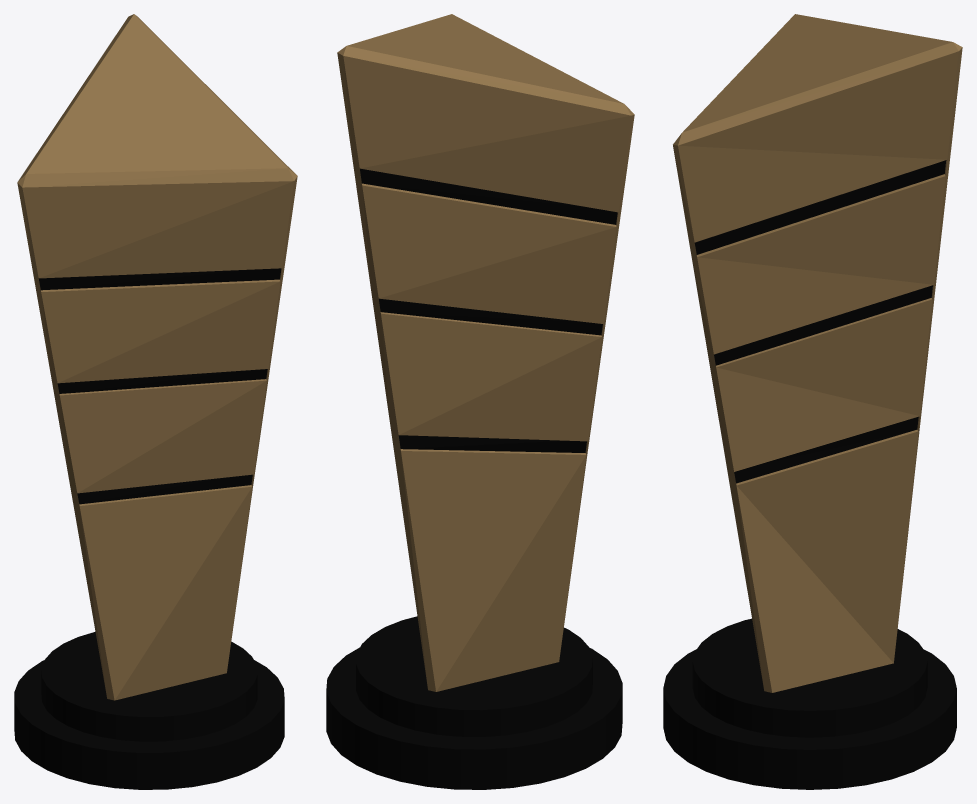
The model's file is tower.obj.
3 renders of one model, left to right at view 1: azimuth 30°, elevation 25°; view 2: azimuth 150°, elevation 25°; view 3: azimuth 270°, elevation 25°, orthographic. The views are drawn at different scales.
Parts seen in each view (by area): view 1: Cylinder.003_Cylinder.002, Cylinder; view 2: Cylinder.003_Cylinder.002, Cylinder; view 3: Cylinder.003_Cylinder.002, Cylinder.
Part boxes in pixels (box(x1,y1,x2,y2)): Cylinder.003_Cylinder.002: box(17, 14, 297, 700); Cylinder: box(14, 631, 284, 789); Cylinder.003_Cylinder.002: box(337, 14, 634, 691); Cylinder: box(326, 616, 622, 789); Cylinder.003_Cylinder.002: box(673, 14, 962, 692); Cylinder: box(663, 618, 956, 789).
Bounding box in the file's own units: 0.1739 × 0.4287 × 0.1632.
